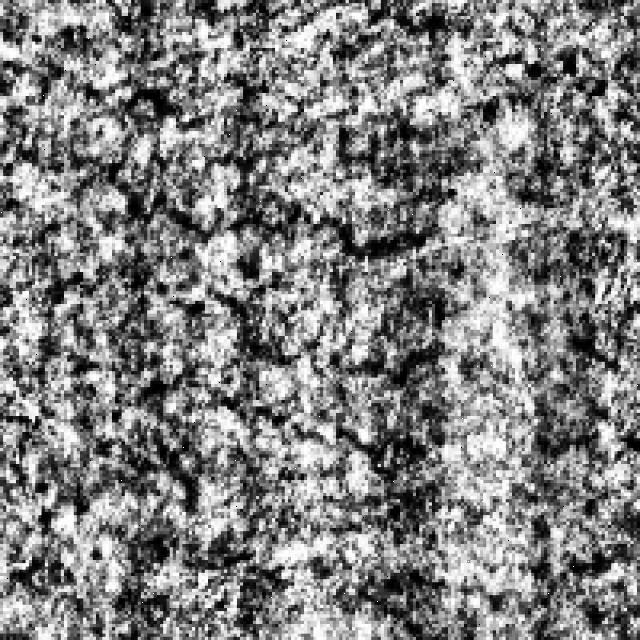Pitted_Surface: (125, 282, 448, 470), (102, 80, 422, 253)
